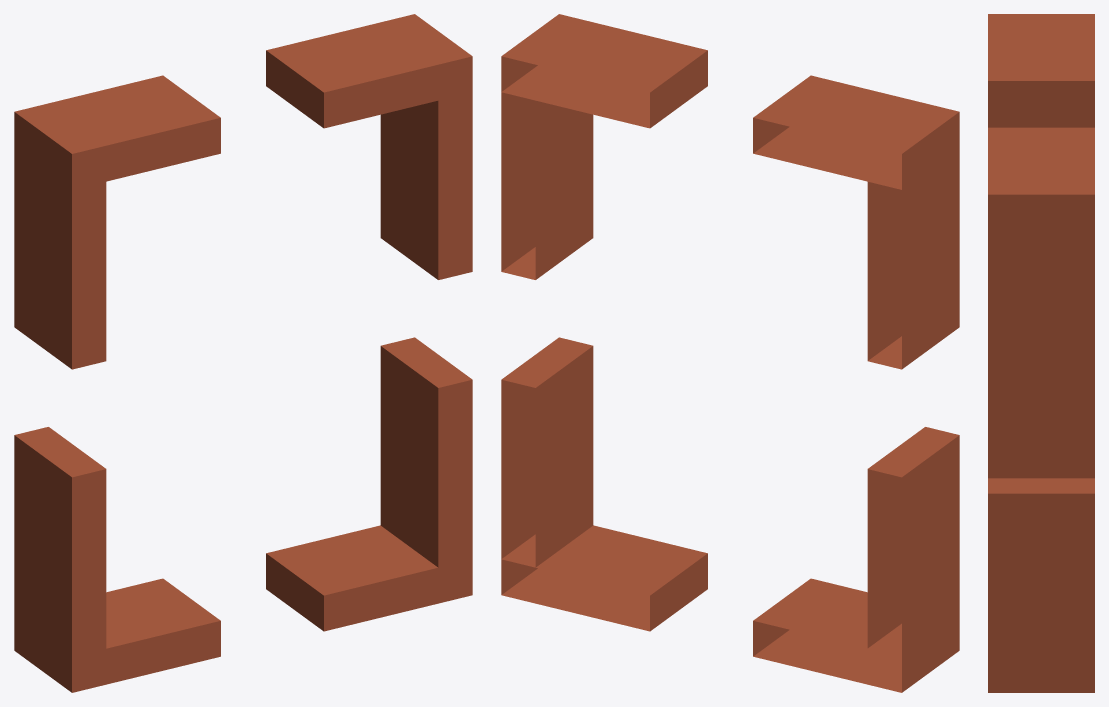
File: construction_0.glb
3 renders of one model, left to right at view 1: azimuth 30°, elevation 25°; view 2: azimuth 150°, elevation 25°; view 3: azimuth 270°, elevation 25°, orthographic. The views are drawn at different scales.
Visible parts, largest first — view 1: c0; view 2: c0; view 3: c0.
Part boxes in pixels (x1=…): c0: x1=14, y1=14, x2=472, y2=692; c0: x1=501, y1=14, x2=959, y2=692; c0: x1=988, y1=14, x2=1094, y2=692.
Bounding box in the file's own units: 7 × 9 × 1.75.
